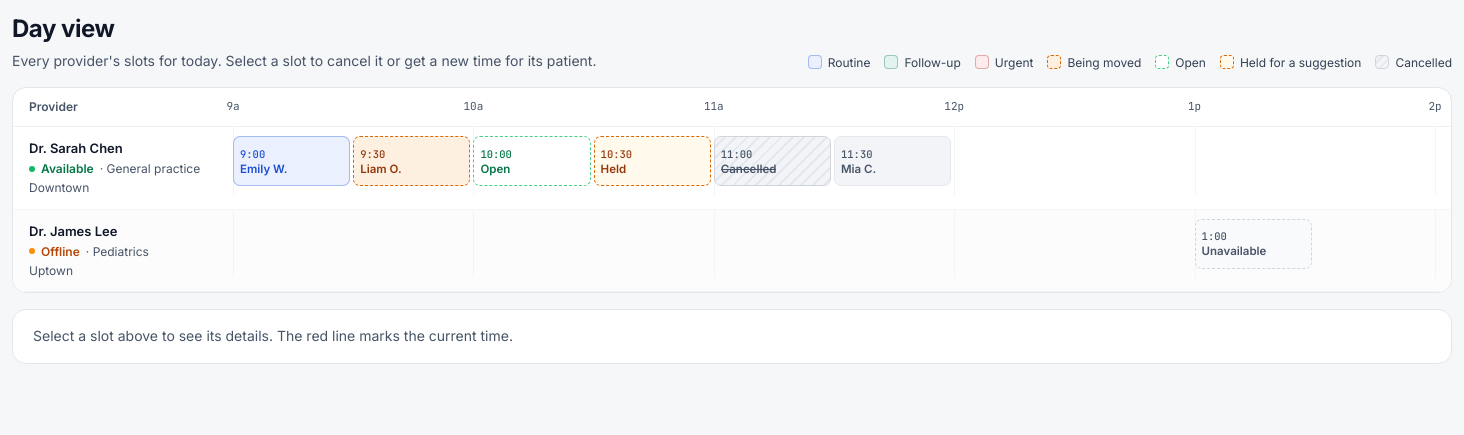
Test: DayView › clicking the selected slot again (or Close) deselects it
This screenshot has width=1464, height=435.
Click the button with aria-label "10:00 AM".
click(532, 161)  # box [473,136,591,186]
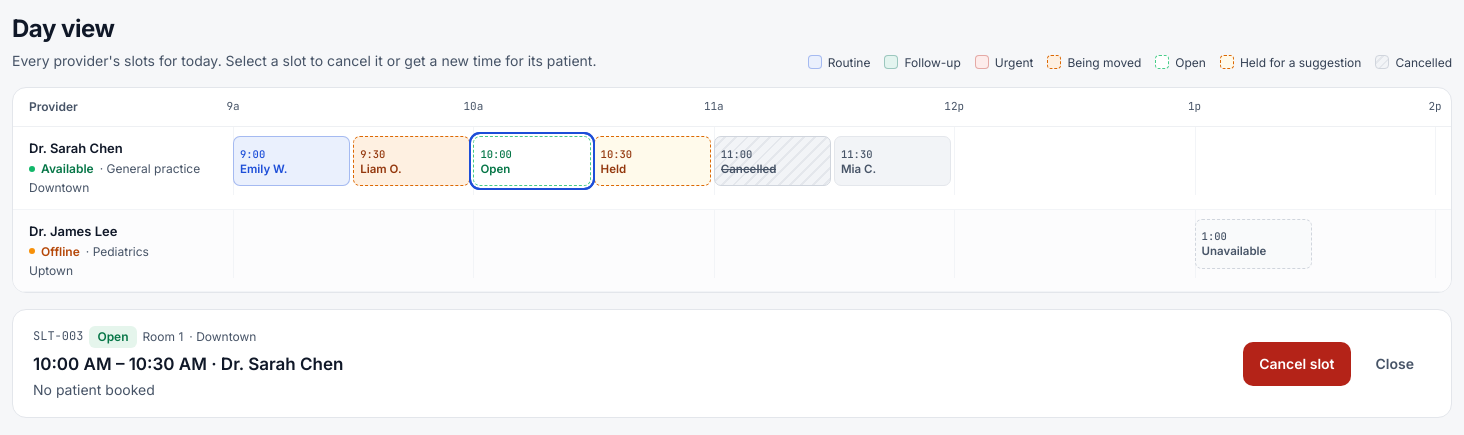
Now the text "No patient booked" is shown, box [33,381,155,398]
Click the button with aria-label "10:00 AM".
click(532, 161)  # box [473,136,591,186]
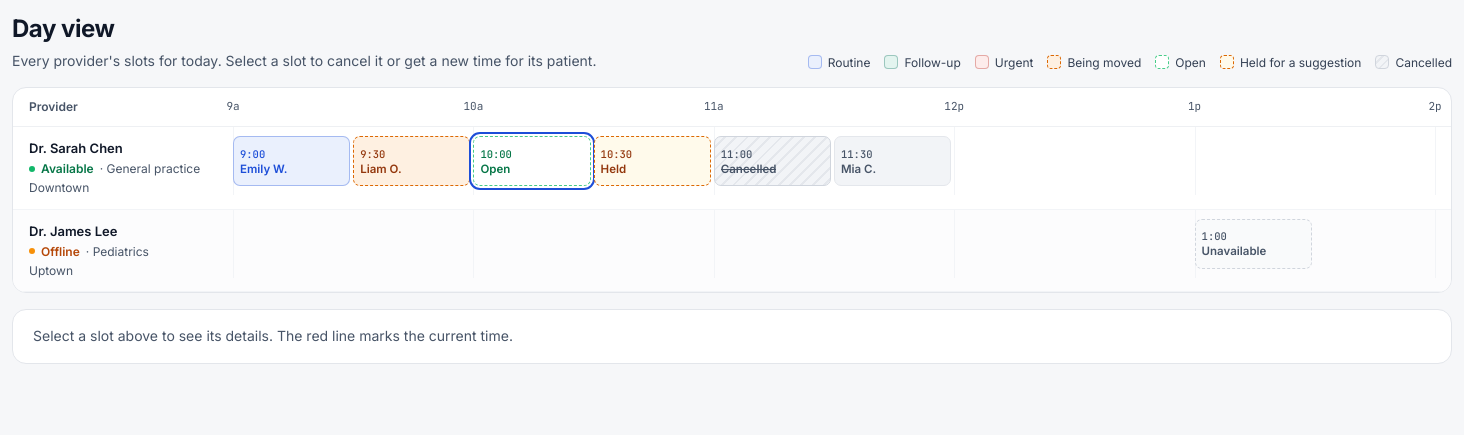
Now the text "Select a slot above" is shown, box [33,327,513,344]
Click the button with aria-label "10:00 AM".
click(532, 161)  # box [473,136,591,186]
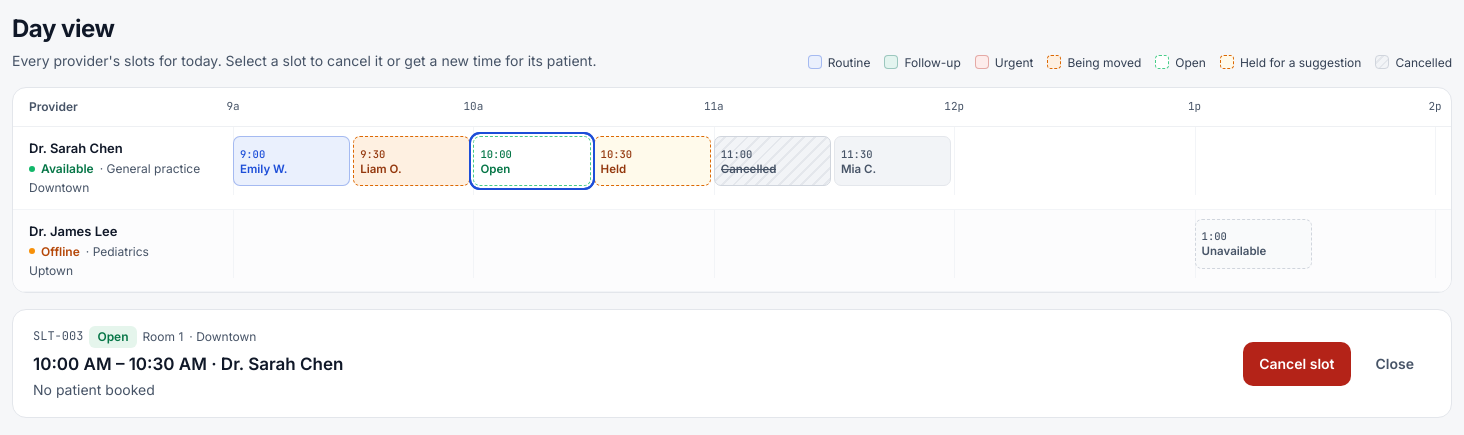
Click the button "Close".
click(1395, 364)  # box [1358,342,1431,386]
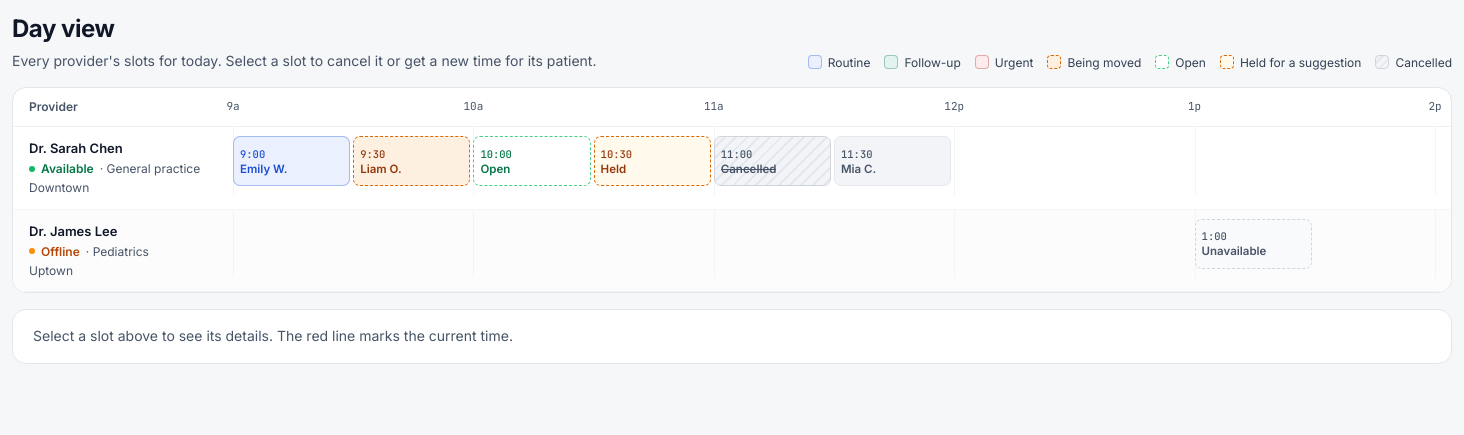
Now the text "Select a slot above" is shown, box [33,327,513,344]
